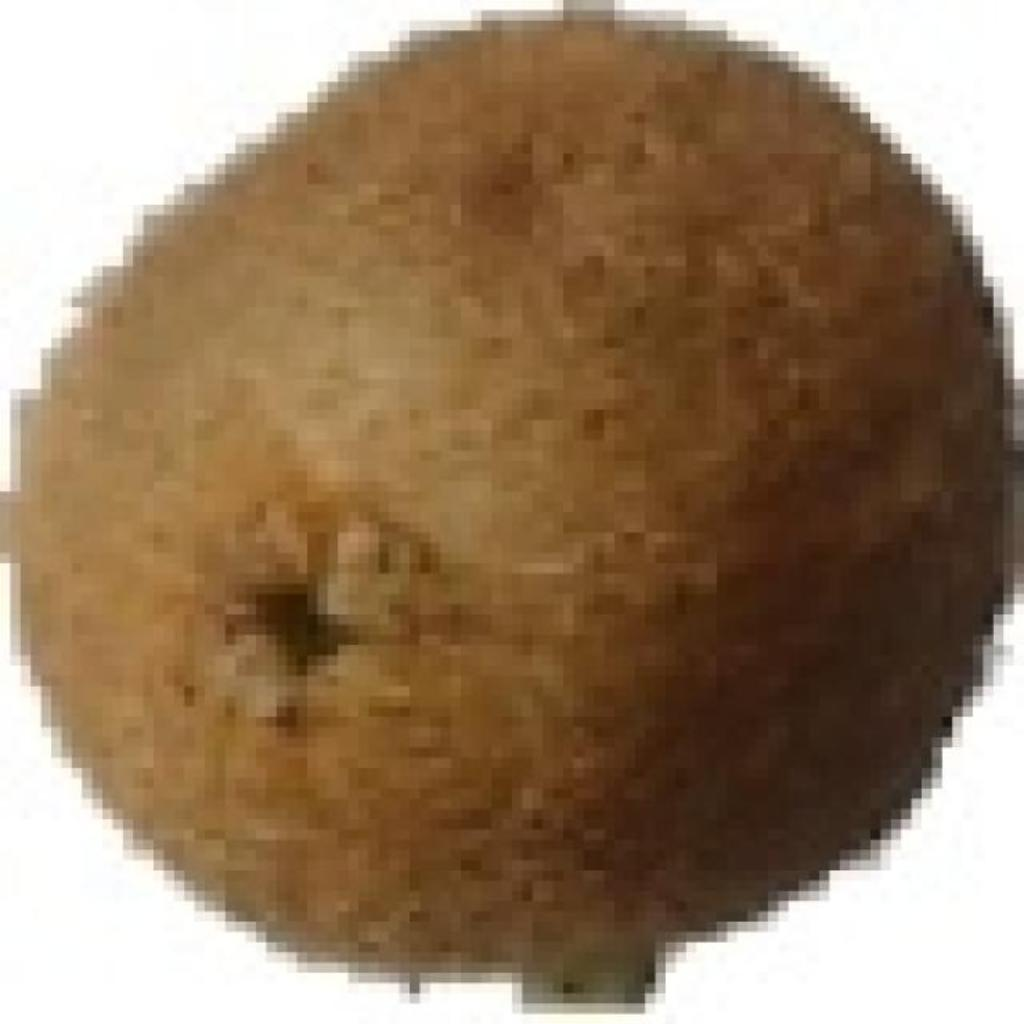kiwi: (10, 10, 983, 983)
